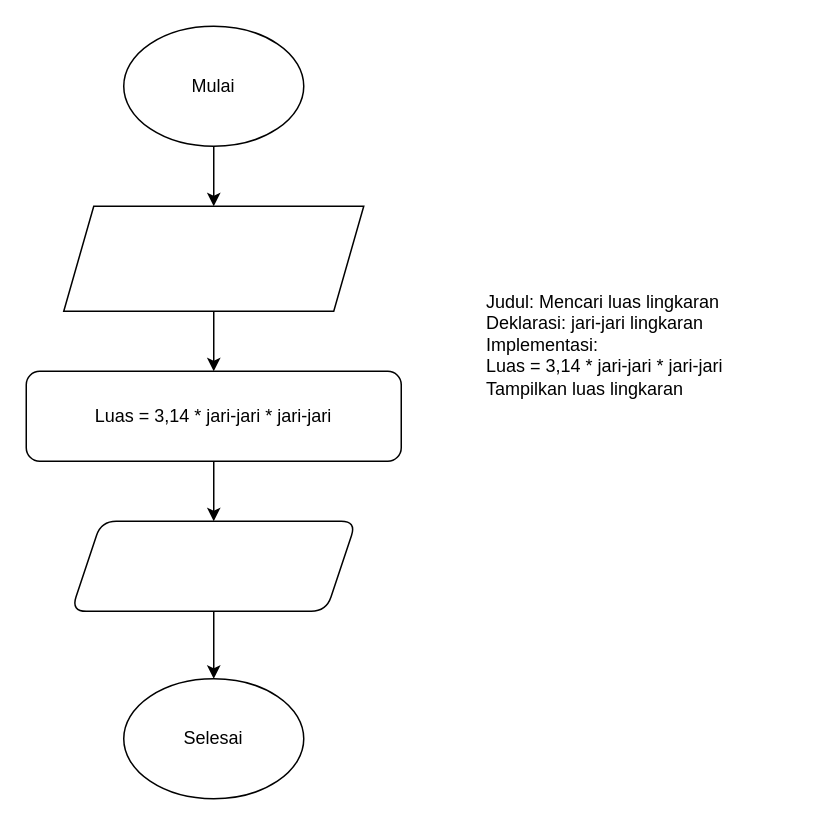
Some shapes in this 840 by 825 pixel diagram are drawn without their labels. Each missing label, with the centre of its shape:
"Luas Lingkaran" belongs at (213,565).
"Masukkan Jari Jari Lingkaran" belongs at (213,258).
